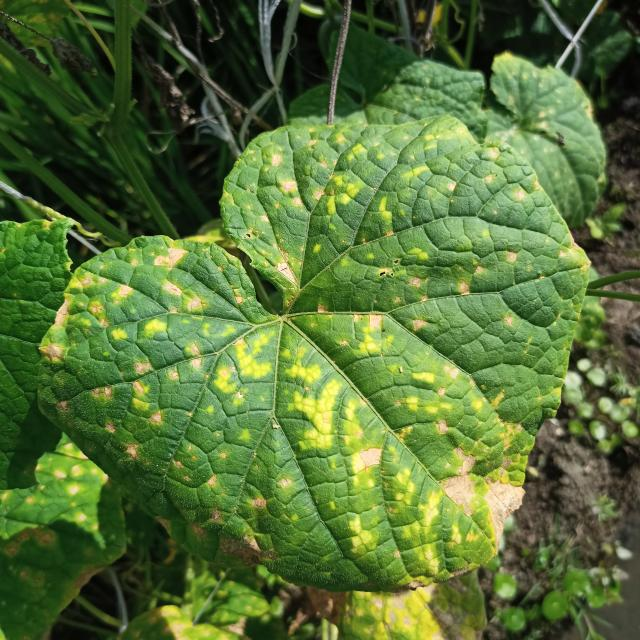disease_cucumber: (52, 128, 558, 564)
